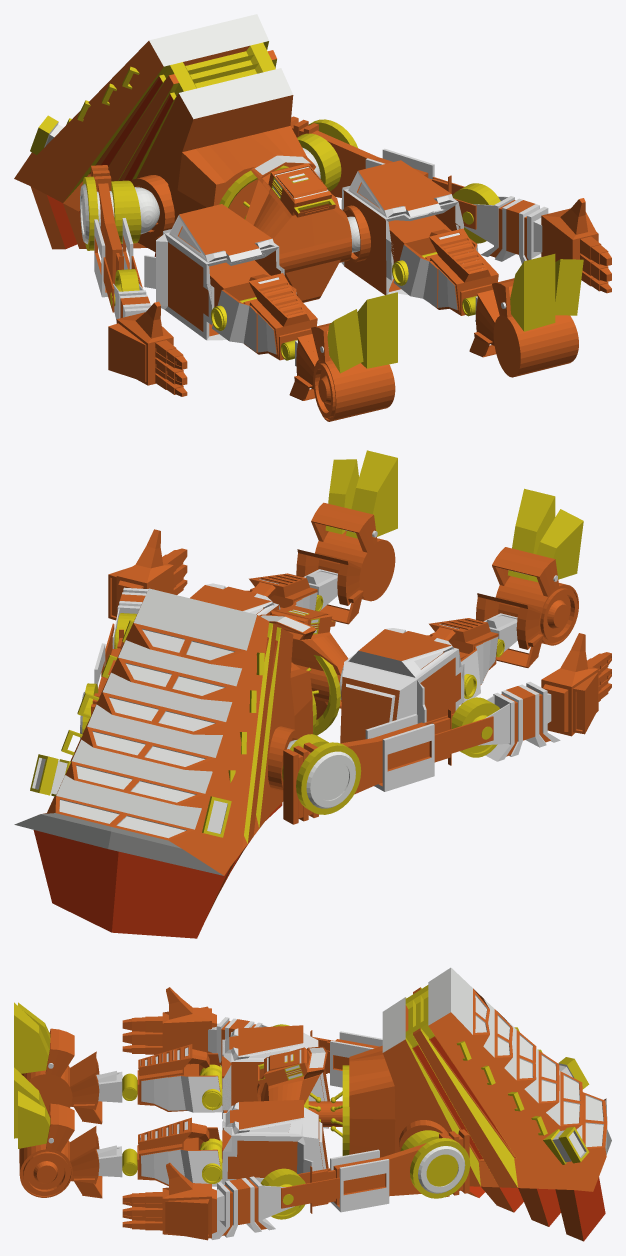
Rendered from Project-A-Mech_Full_Rigged_-Z.fbx.
3 views of the same model, one above another, from view 1: azimuth 30°, elevation 25°; view 2: azimuth 150°, elevation 25°; view 3: azimuth 270°, elevation 25° (orthographic). The views are drawn at different scales.
Visible parts, largest first — view 1: UpperBody, RightHip, Torso, LeftHip, LeftFoot, RightFoot, LeftShin, RightShin, RightHand.001, LeftForearm.001, LeftHand.001, RightBicep.001 (+6 smaller); view 2: UpperBody, RightHip, RightBicep.001, RightFoot, LeftFoot, RightForearm.001, Torso, RightHand.001, LeftHand.001, LeftFoot.R, RightShin, RightFoot.L (+6 smaller); view 3: UpperBody, LeftHip, LeftBicep.001, LeftFoot, RightHip, RightShin, RightFoot, LeftHand.001, LeftShin, LeftForearm.001, RightHand.001, Torso (+5 smaller).
Part boxes in pixels (left/top/right/bottom): UpperBody: left=14, top=14, right=357, bottom=256; RightHip: left=144, top=204, right=284, bottom=340; Torso: left=244, top=154, right=360, bottom=302; LeftHip: left=341, top=160, right=463, bottom=295; LeftFoot: left=469, top=278, right=578, bottom=377; RightFoot: left=289, top=323, right=395, bottom=421; LeftShin: left=393, top=228, right=498, bottom=316; RightShin: left=212, top=273, right=317, bottom=360; RightHand.001: left=108, top=301, right=187, bottom=396; LeftForearm.001: left=452, top=183, right=548, bottom=263; LeftHand.001: left=541, top=198, right=611, bottom=293; RightBicep.001: left=91, top=165, right=142, bottom=312; UpperBody: left=14, top=588, right=361, bottom=938; RightHip: left=340, top=628, right=476, bottom=743; RightBicep.001: left=283, top=709, right=493, bottom=824; RightFoot: left=476, top=547, right=578, bottom=667; LeftFoot: left=296, top=502, right=395, bottom=624; RightForearm.001: left=451, top=681, right=560, bottom=761; Torso: left=259, top=605, right=348, bottom=735; RightHand.001: left=541, top=633, right=611, bottom=736; LeftHand.001: left=108, top=529, right=187, bottom=620; LeftFoot.R: left=345, top=450, right=397, bottom=538; RightShin: left=427, top=618, right=504, bottom=704; RightFoot.L: left=508, top=488, right=555, bottom=580; UpperBody: left=308, top=967, right=611, bottom=1241; LeftHip: left=200, top=1100, right=328, bottom=1184; LeftBicep.001: left=281, top=1129, right=469, bottom=1213; LeftFoot: left=19, top=1103, right=122, bottom=1198; RightHip: left=200, top=1025, right=329, bottom=1128; RightShin: left=122, top=1044, right=222, bottom=1112; RightFoot: left=21, top=1028, right=122, bottom=1124; LeftHand.001: left=122, top=1162, right=216, bottom=1240; LeftShin: left=122, top=1117, right=222, bottom=1186; LeftForearm.001: left=211, top=1168, right=305, bottom=1239; RightHand.001: left=122, top=987, right=216, bottom=1054; Torso: left=258, top=1046, right=327, bottom=1122.
Size of the model in its own units: 833 by 1069 by 441.
